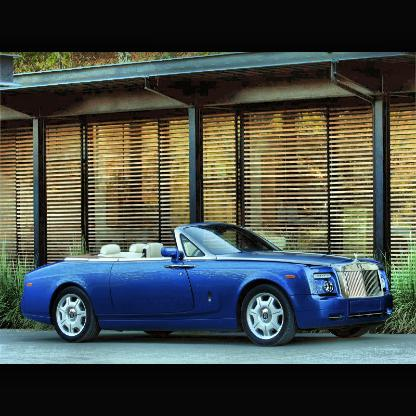Rolls-Royce Phantom Drophead Coupe Convertible 2012: (22, 223, 393, 347)
